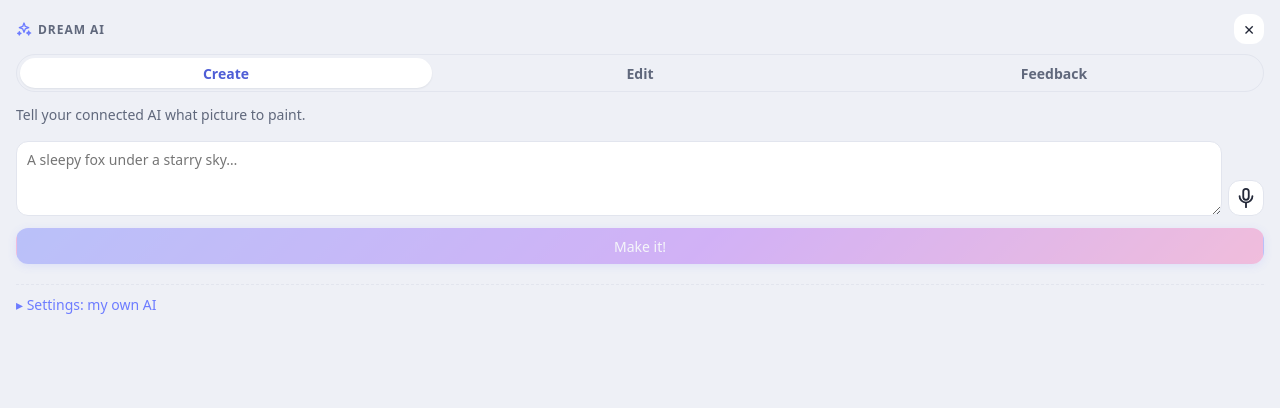
Test case: AI operation progress › explains indeterminate progress and safely cancels without applying a late result
Type "A patient dinosaur" into the text box named "What should I paint?". click: x=619, y=178
box: [16, 141, 1222, 216]
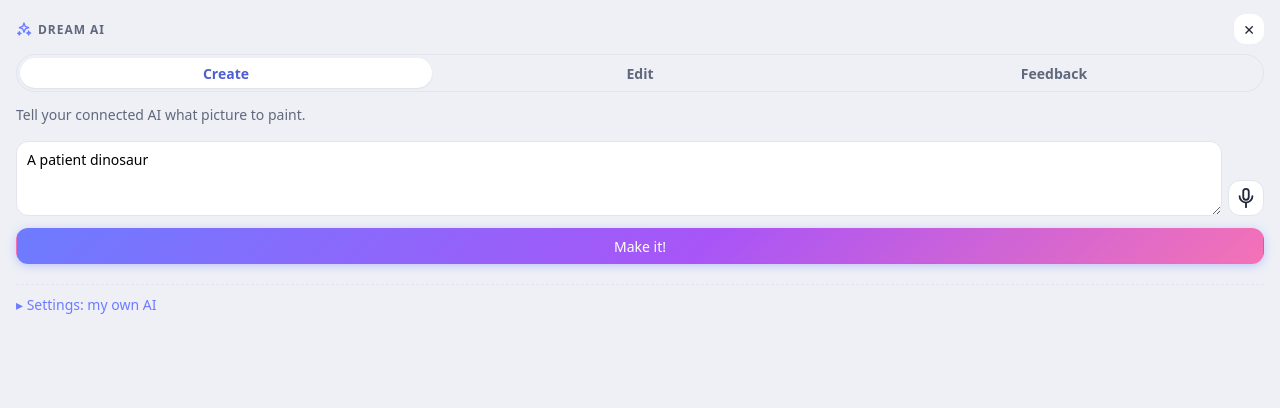
Click the button "Make it!". click: x=640, y=246
box: [16, 228, 1264, 264]
Wait 5000 ms
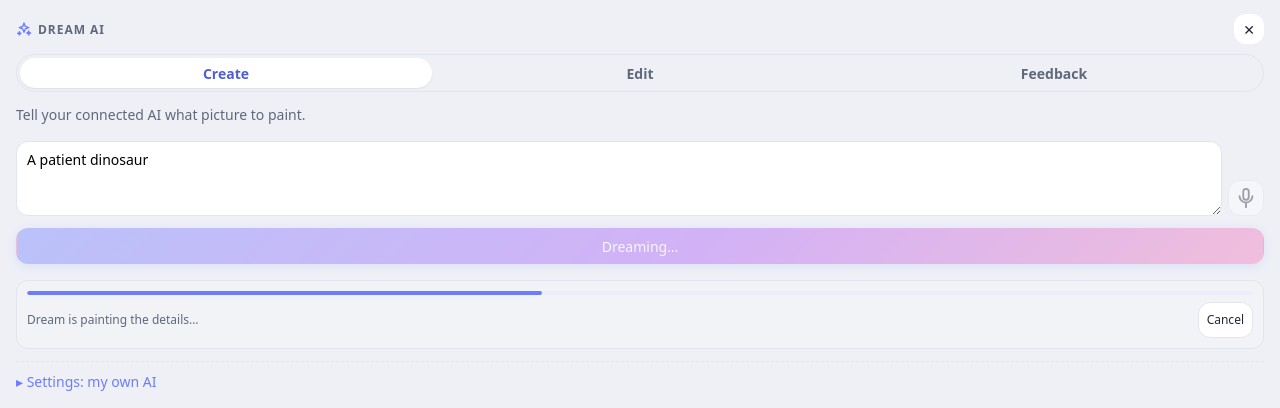
Result: the button "Cancel" is enabled
Result: the progress indicator named "Dream is painting the details…" is shown at [27, 291, 1253, 295]
Click the button "Cancel". click: x=1225, y=320
box: [1198, 302, 1253, 338]
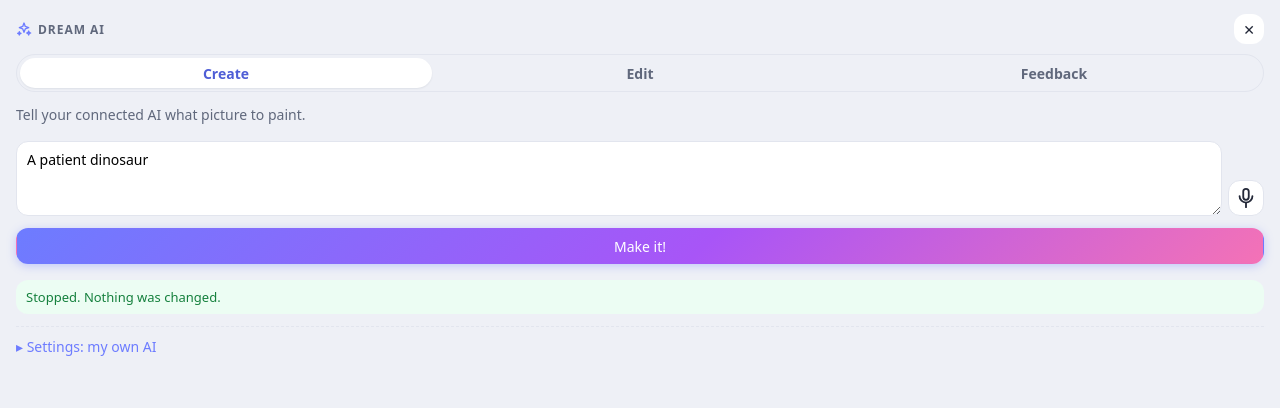
Result: the progress indicator is gone
Result: the text "Stopped. Nothing was changed." is shown at [16, 280, 1264, 314]
